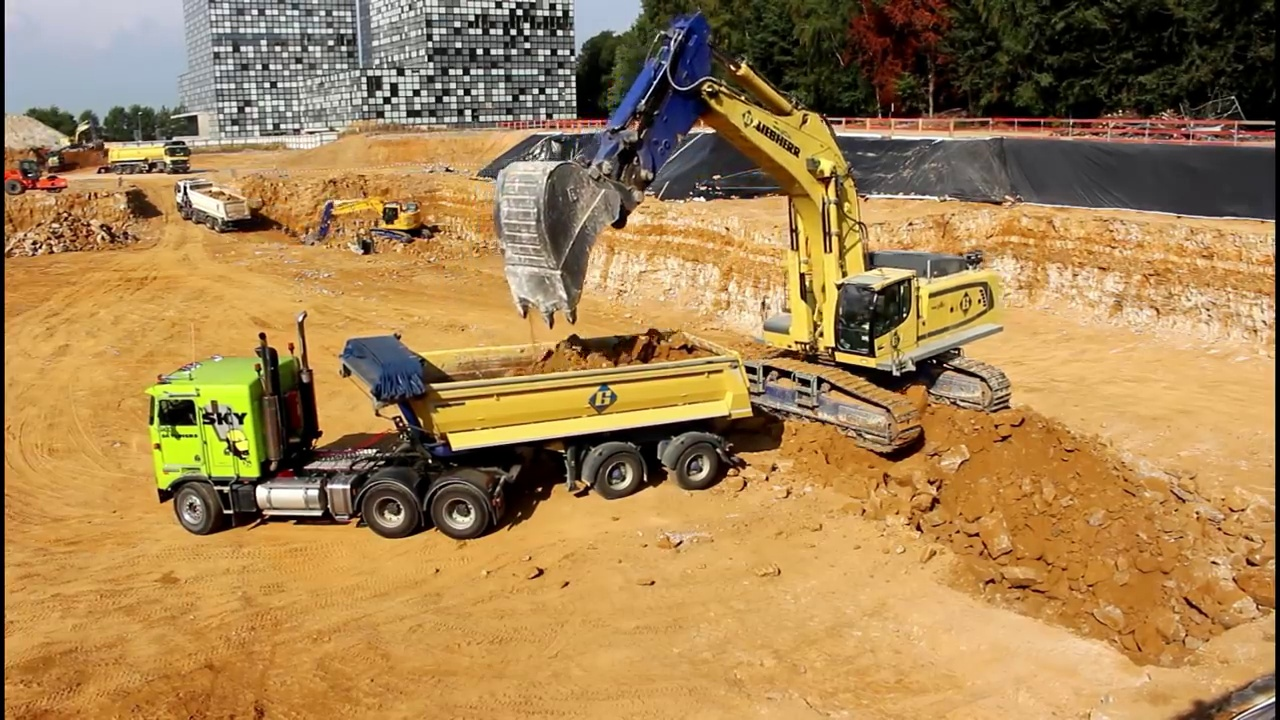compactor: (5, 157, 71, 202)
excavator: (488, 9, 1014, 459), (304, 188, 449, 262), (53, 116, 108, 159)
truck: (140, 309, 763, 541), (167, 176, 256, 234), (97, 134, 198, 179)
